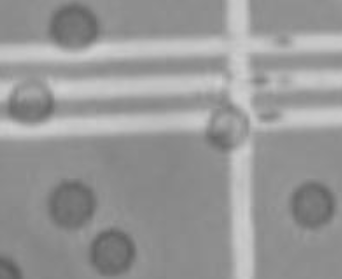cell: (40, 173, 100, 234), (200, 97, 256, 157), (4, 70, 60, 128), (44, 2, 104, 56), (283, 176, 340, 232), (85, 224, 137, 277)
